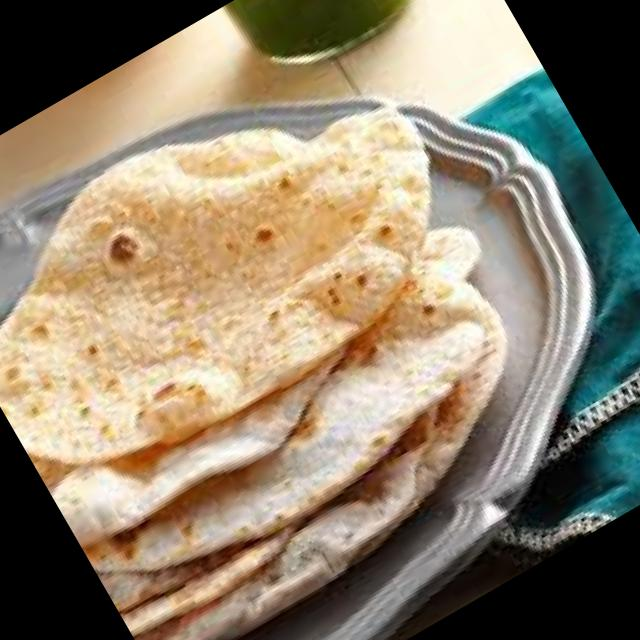roti: (0, 104, 500, 640)
